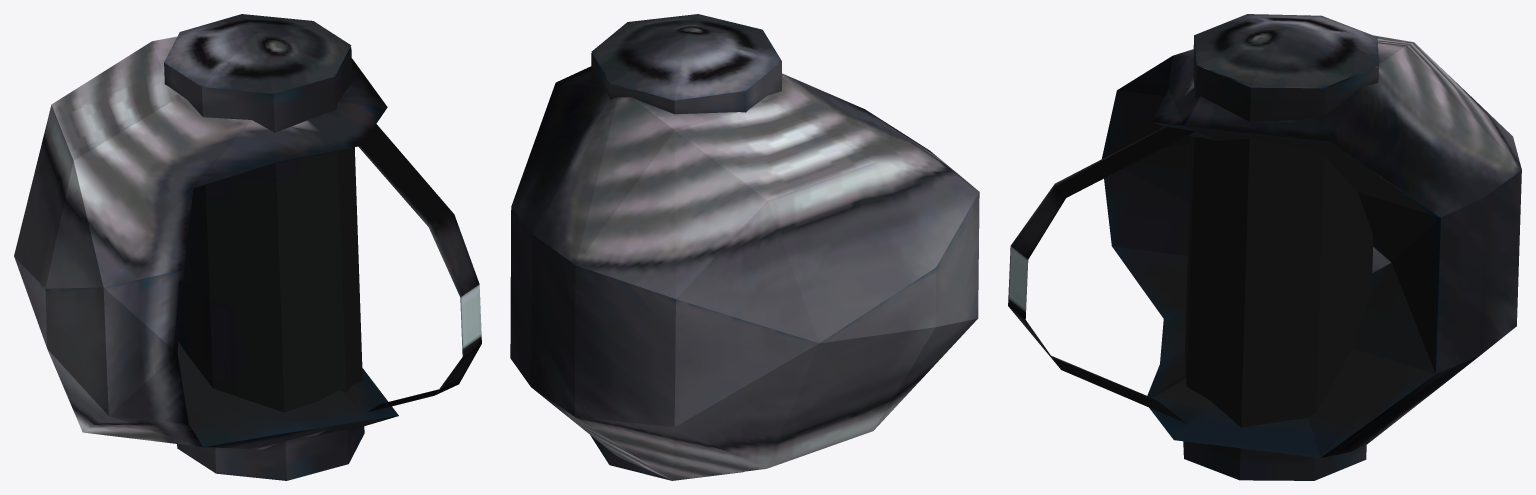
File: TAAIRHELM.bgf.obj
3 renders of one model, left to right at view 1: azimuth 30°, elevation 25°; view 2: azimuth 150°, elevation 25°; view 3: azimuth 270°, elevation 25°, orthographic.
Parts seen in each view (by area): view 1: DUMMY; view 2: DUMMY; view 3: DUMMY.
Part boxes in pixels (x1,y1,x2,y2): DUMMY: (14, 14, 481, 480); DUMMY: (510, 14, 979, 480); DUMMY: (1008, 14, 1521, 480).
Size of the model in its own units: 0.319 by 0.377 by 0.406.
1 material, 1 textured.
